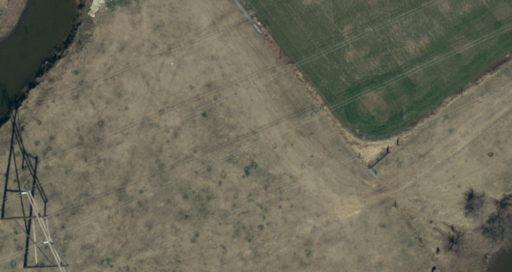TT: (6, 186, 69, 271)
